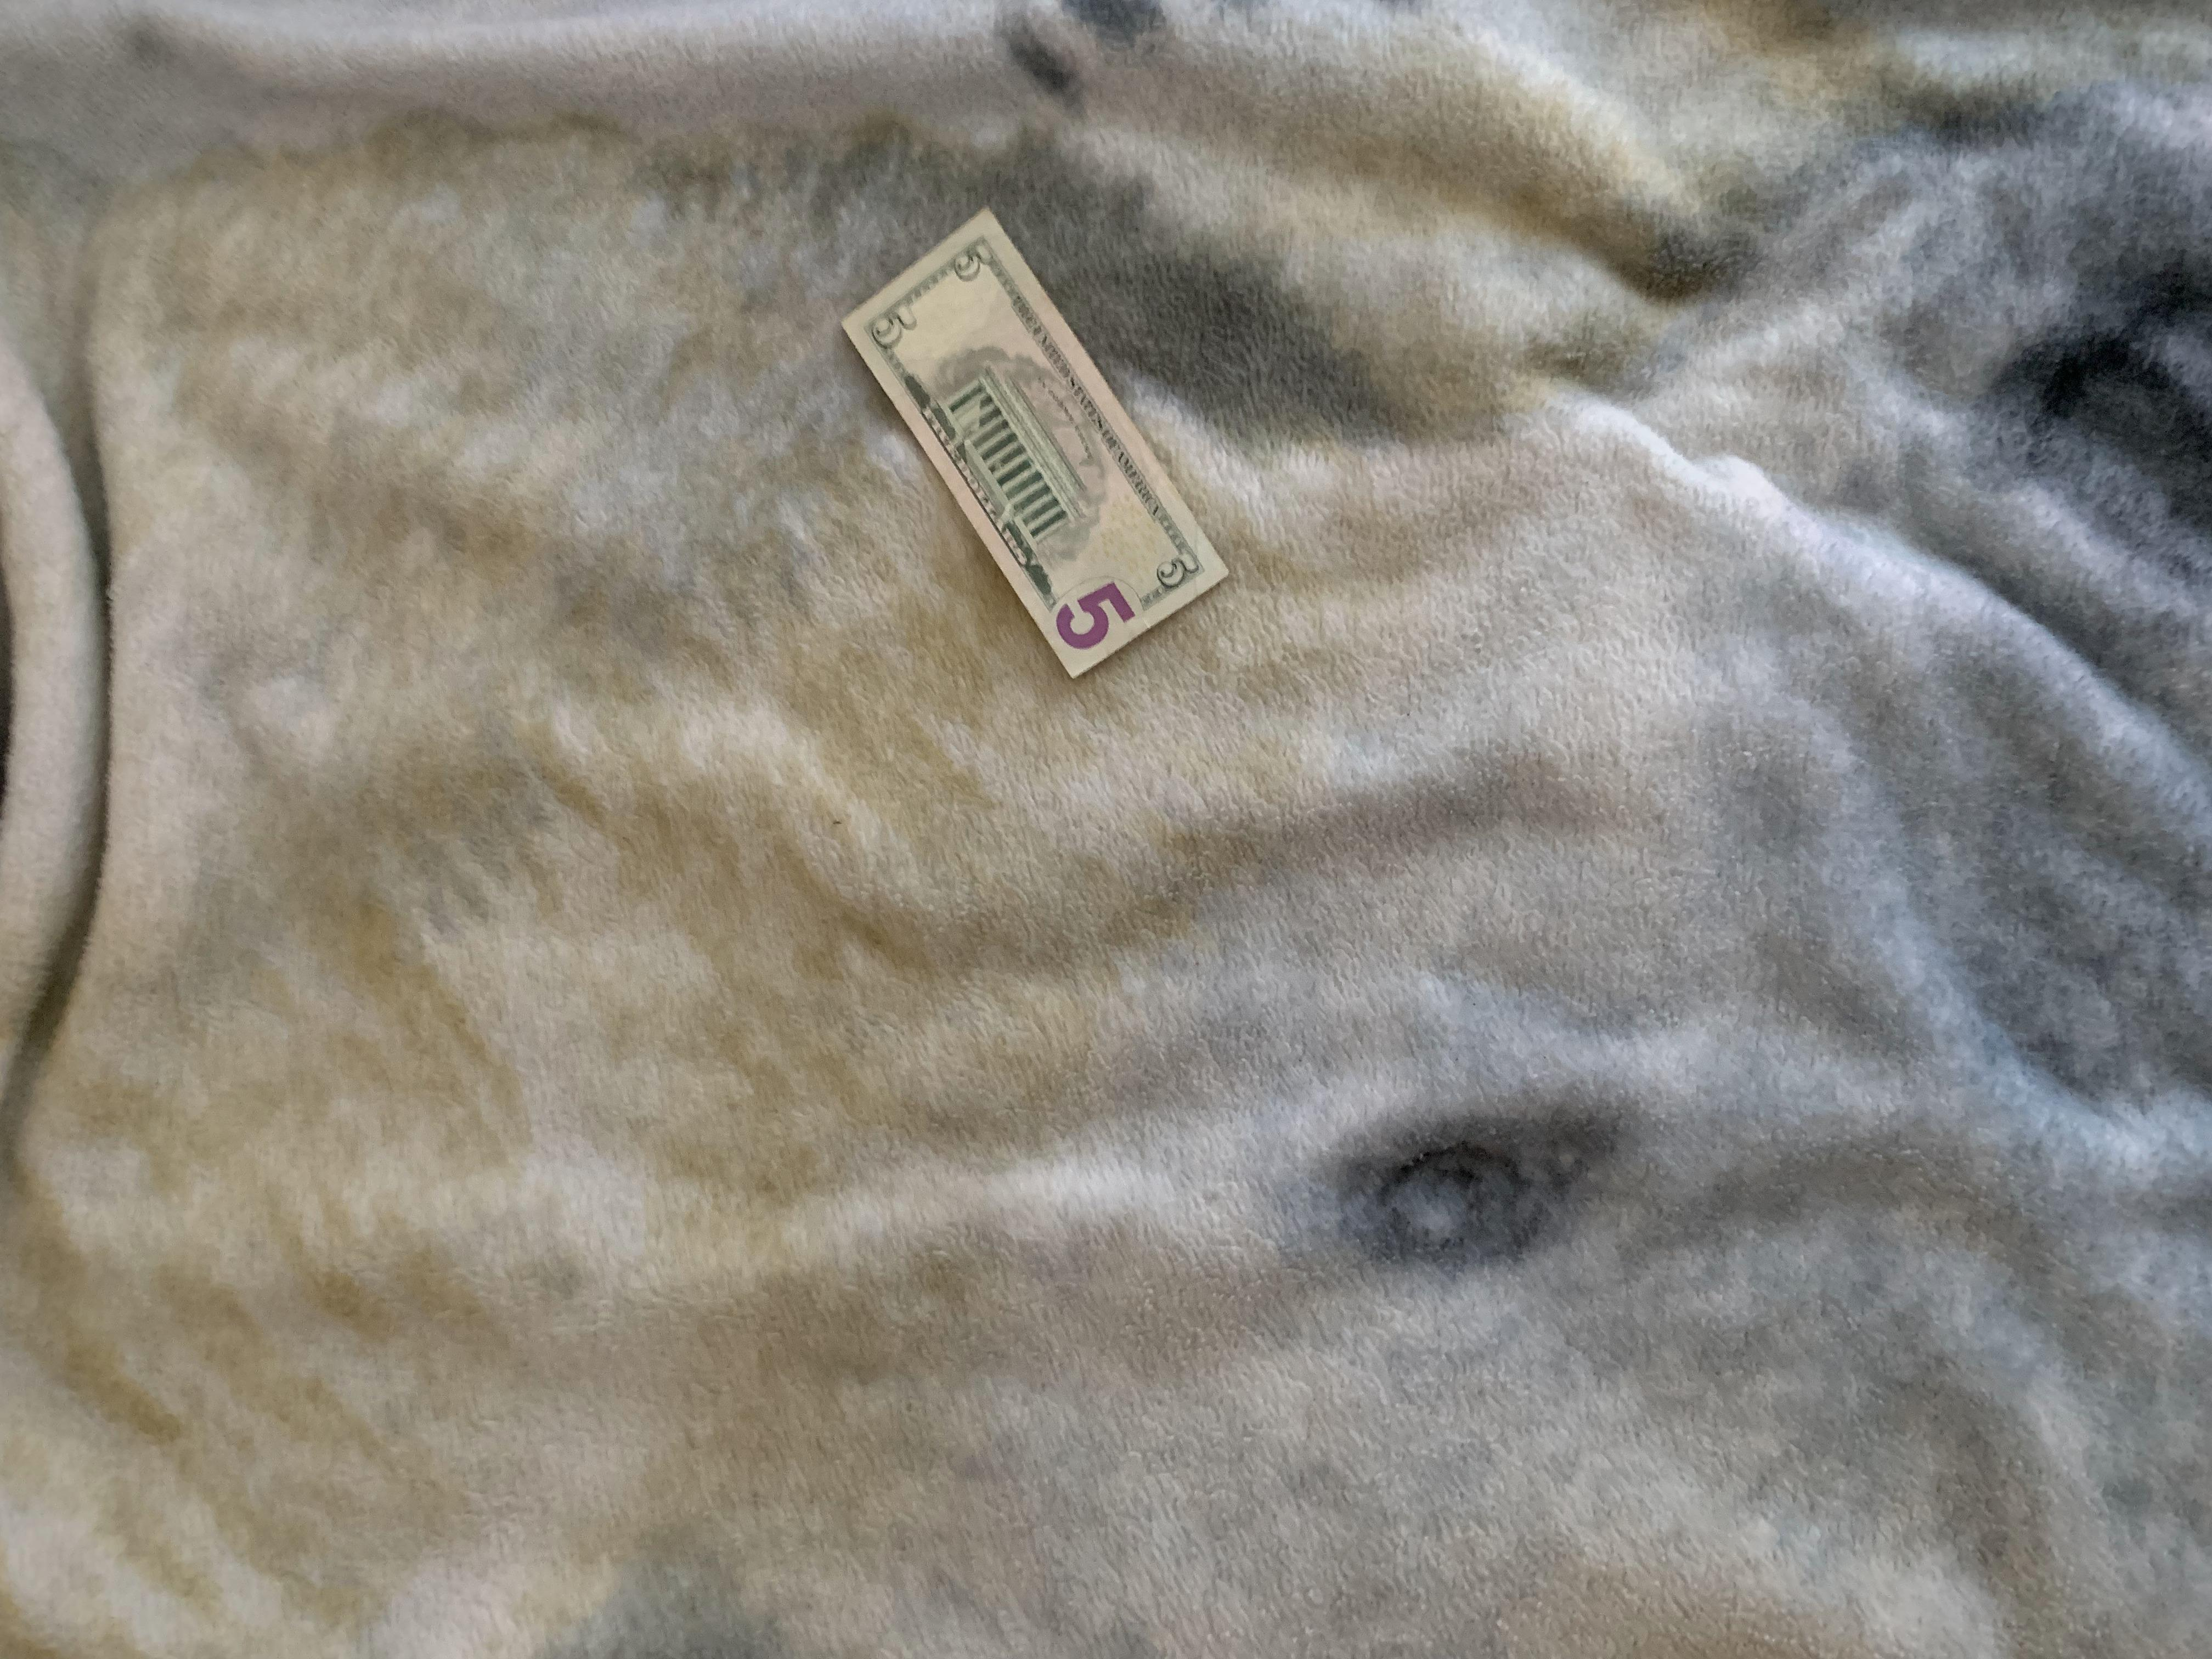FiveBill: (838, 199, 1240, 685)
